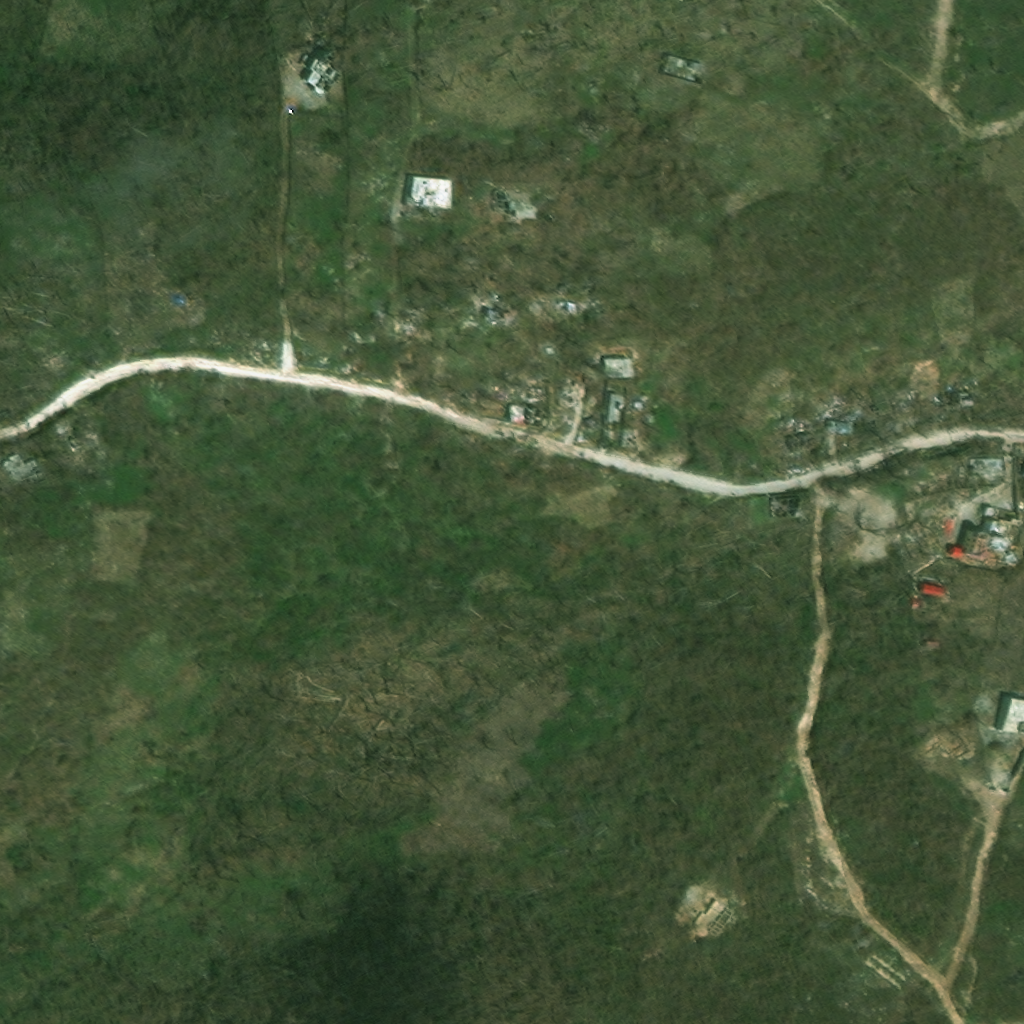destroyed: (976, 452, 1023, 486), (835, 416, 861, 435), (920, 367, 941, 388), (903, 394, 917, 410), (400, 314, 415, 326)
major_damage: (945, 390, 989, 413), (779, 493, 813, 518), (798, 430, 828, 453), (502, 402, 533, 420), (554, 382, 573, 404), (549, 297, 570, 315), (470, 304, 489, 322), (521, 384, 539, 401), (812, 417, 827, 429), (535, 343, 549, 355)
minor_damage: (404, 173, 450, 206), (653, 54, 693, 82), (489, 185, 529, 208), (594, 390, 611, 421), (426, 205, 447, 220), (576, 412, 593, 430), (615, 431, 629, 445)
unclassified: (400, 218, 444, 249), (855, 927, 895, 959), (747, 607, 782, 634), (183, 382, 208, 405), (59, 427, 87, 446), (55, 513, 77, 535), (53, 354, 69, 370)
